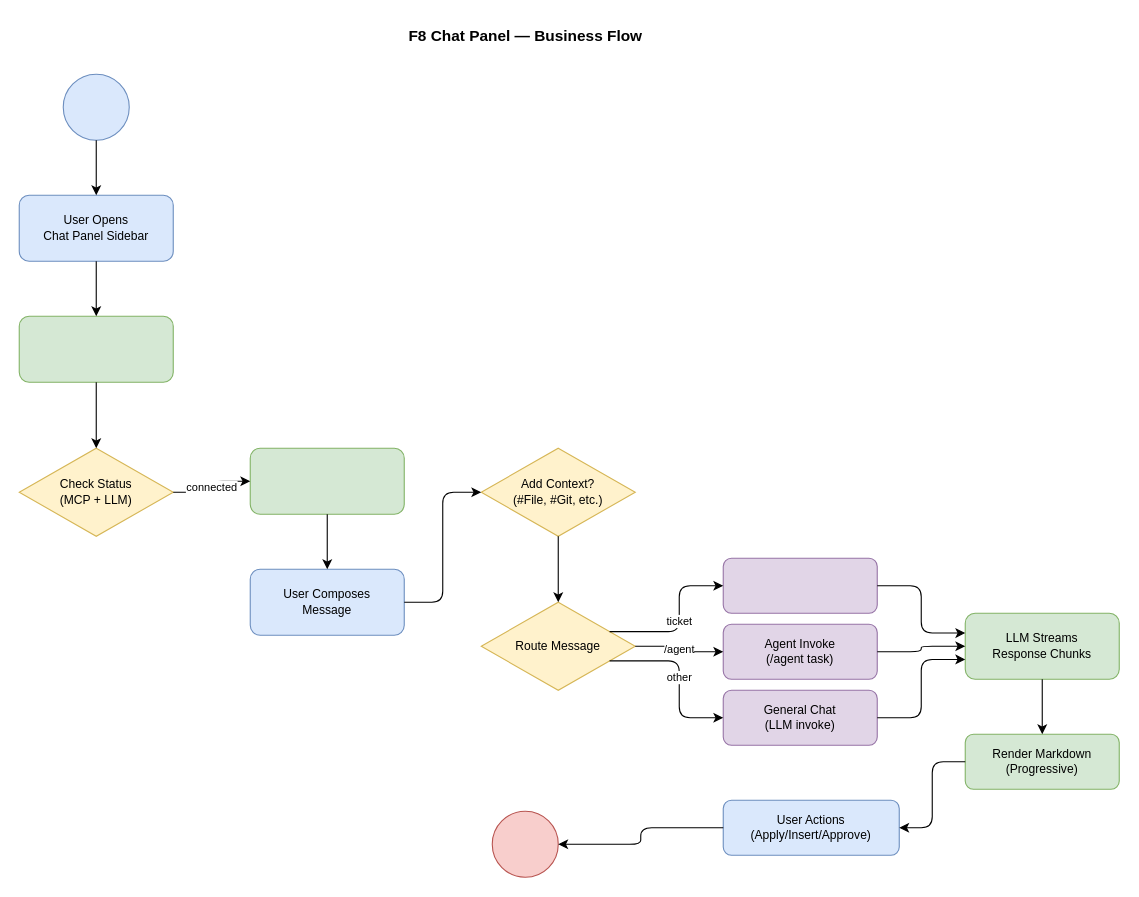
Some shapes in this 1139 by 897 pixel diagram are drawn without their labels. Each missing label, with the centre of its shape:
"End" belongs at (524,843).
"Initialize Panel (HTML/CSS/JS Load)" belongs at (95,348).
"Restore State (Tabs, Messages, Steering)" belongs at (326,480).
"SDLC Pipeline (ticket command)" belongs at (799,585).
"Start" belongs at (95,106).
